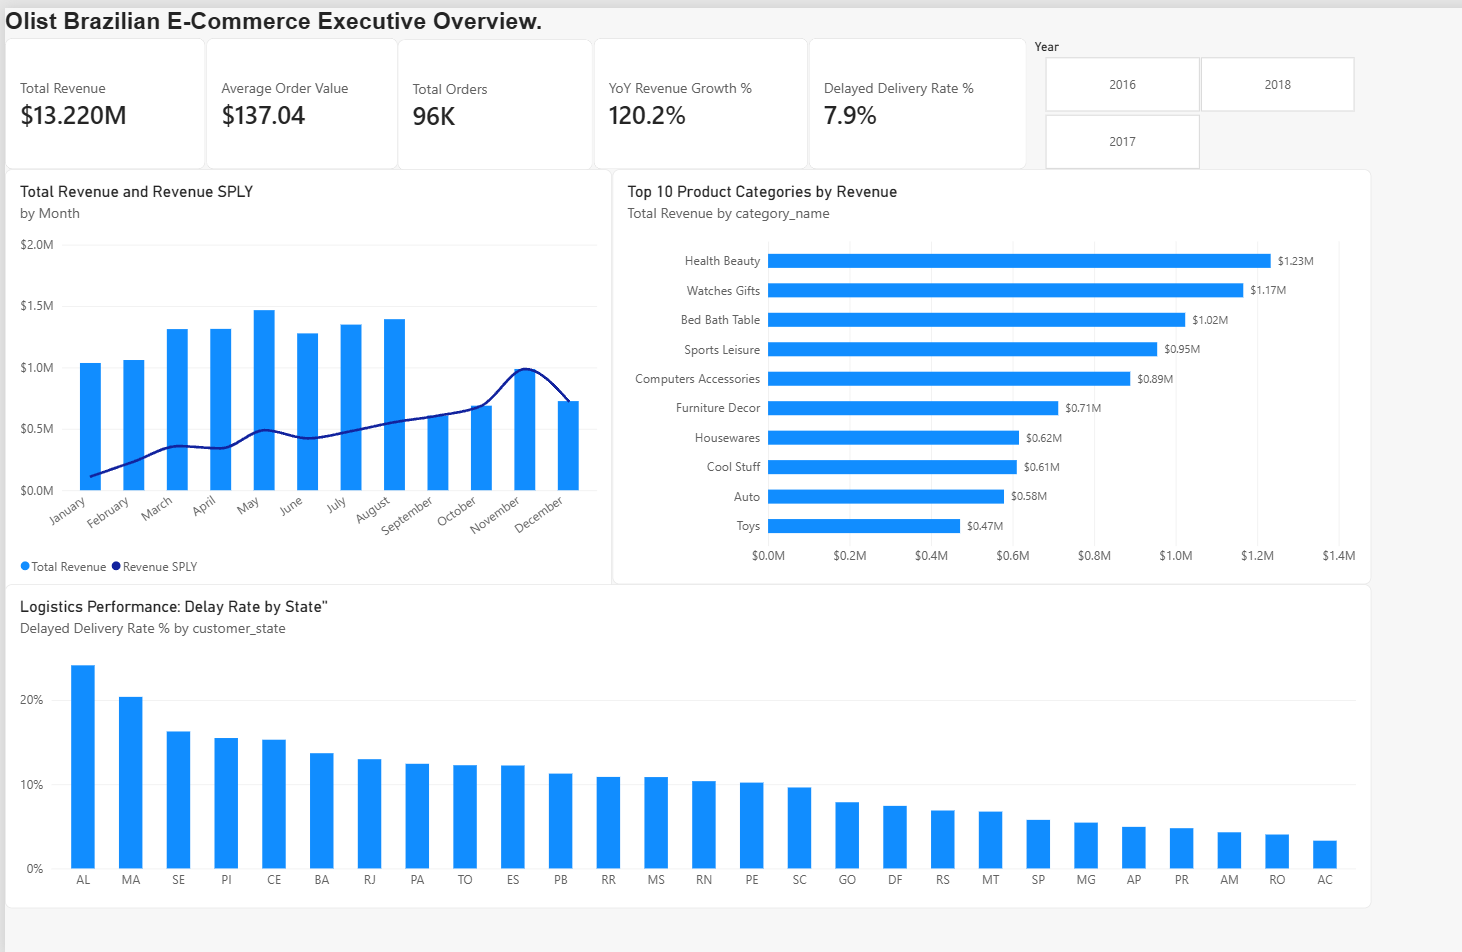

This screenshot's page, from the dashboard's own definition file:
{"tool":"powerbi","page":{"name":"Page 1","canvas":[1920,1080],"ordinal":0},"visuals":[{"type":"cardVisual","fields":{"Data":["_Measures.Total Revenue"]},"box":[0,34.6,229.9,150.2],"z":0},{"type":"cardVisual","fields":{"Data":["_Measures.Average Order Value"]},"box":[229.9,34.6,219.3,150.2],"z":1},{"type":"cardVisual","fields":{"Data":["_Measures.Delayed Delivery Rate %"]},"box":[918.3,34.6,249.8,150.2],"z":2},{"type":"cardVisual","fields":{"Data":["_Measures.Total Orders"]},"box":[449.2,35.9,223.3,150.2],"z":5},{"type":"cardVisual","fields":{"Data":["_Measures.YoY Revenue Growth %"]},"box":[672.4,34.6,245.8,150.2],"z":7},{"type":"lineClusteredColumnComboChart","fields":{"Category":["Dim_Date.Date.Variation.Date Hierarchy.Month"],"Y":["_Measures.Total Revenue"],"Y2":["_Measures.Revenue SPLY"]},"box":[0,184.7,693.7,485.1],"z":8},{"type":"clusteredBarChart","title":"Top 10 Product Categories by Revenue","fields":{"Category":["public view_dim_product.category_name"],"Y":["_Measures.Total Revenue"]},"box":[694.3,184.3,867.1,474.3],"z":9},{"type":"clusteredColumnChart","title":"Logistics Performance: Delay Rate by State\"","fields":{"Category":["public view_dim_customer.customer_state"],"Y":["_Measures.Delayed Delivery Rate %"]},"box":[0,658.6,1561.4,370],"z":10},{"type":"slicer","fields":{"Values":["Dim_Date.Year"]},"box":[1168.6,35.7,392.9,150],"z":11},{"type":"textbox","box":[0,0,717.6,122.3],"z":12}]}

Visuals, with their boxes on the page's 1920x1080 design canvas (x1, y1, x2, y2). These are canvas units, not pixel positions in the 1462x952 screenshot, which may show the page scaled, cropped or inside an application window:
cardVisual - _Measures.Total Revenue: Rect(0, 35, 230, 185)
cardVisual - _Measures.Average Order Value: Rect(230, 35, 449, 185)
cardVisual - _Measures.Delayed Delivery Rate %: Rect(918, 35, 1168, 185)
cardVisual - _Measures.Total Orders: Rect(449, 36, 672, 186)
cardVisual - _Measures.YoY Revenue Growth %: Rect(672, 35, 918, 185)
lineClusteredColumnComboChart - Dim_Date.Date.Variation.Date Hierarchy.Month x _Measures.Total Revenue: Rect(0, 185, 694, 670)
"Top 10 Product Categories by Revenue" clusteredBarChart: Rect(694, 184, 1561, 659)
"Logistics Performance: Delay Rate by State"" clusteredColumnChart: Rect(0, 659, 1561, 1029)
slicer - Dim_Date.Year: Rect(1169, 36, 1562, 186)
textbox: Rect(0, 0, 718, 122)
